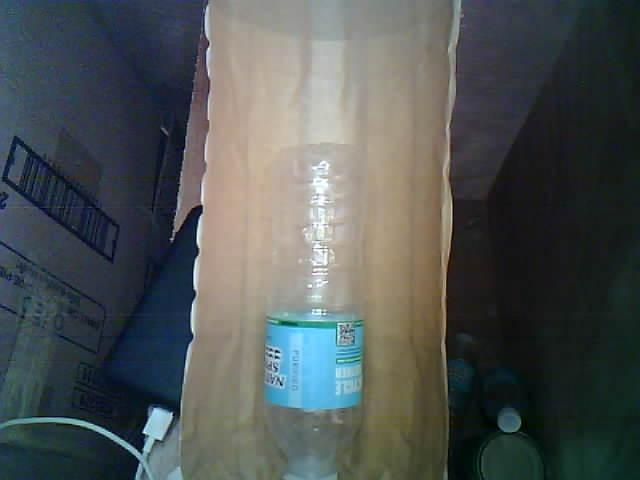small_bottle: (257, 143, 376, 480)
